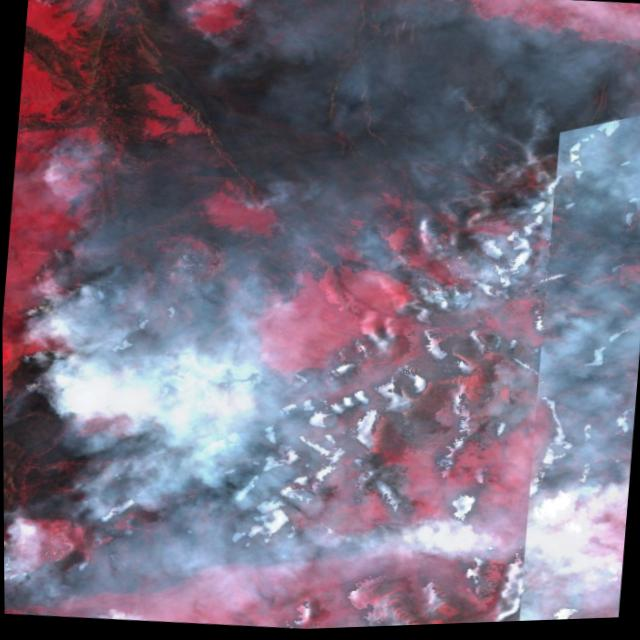fire: (3, 233, 116, 404), (519, 461, 629, 540), (341, 503, 424, 567), (404, 277, 461, 322)
